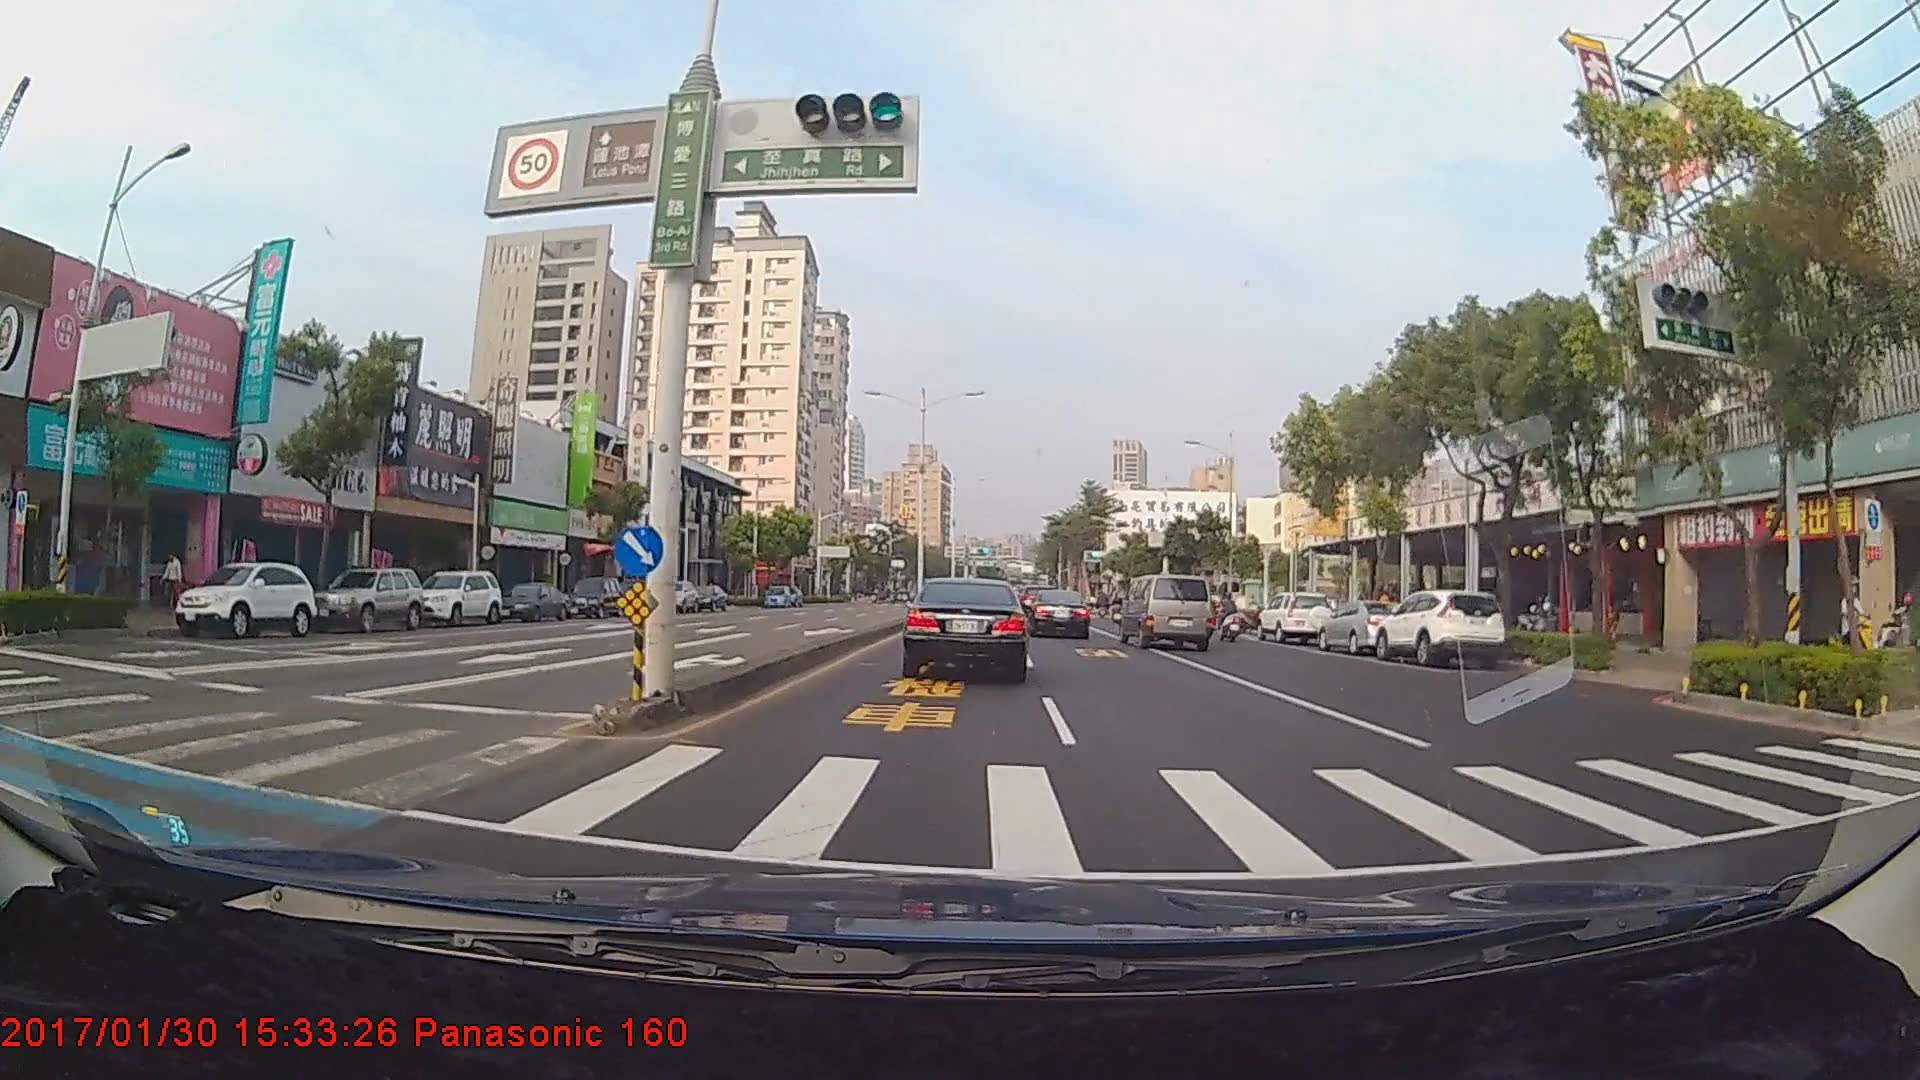pedestrian: (162, 553, 186, 618)
rider: (1211, 592, 1246, 642)
vehicle: (905, 577, 1026, 680), (1369, 585, 1508, 666), (170, 561, 313, 638), (309, 564, 423, 634), (1117, 574, 1213, 650), (1314, 597, 1414, 655), (412, 571, 503, 628), (1254, 592, 1336, 642), (1018, 586, 1091, 640), (487, 579, 568, 621), (561, 575, 624, 617)
